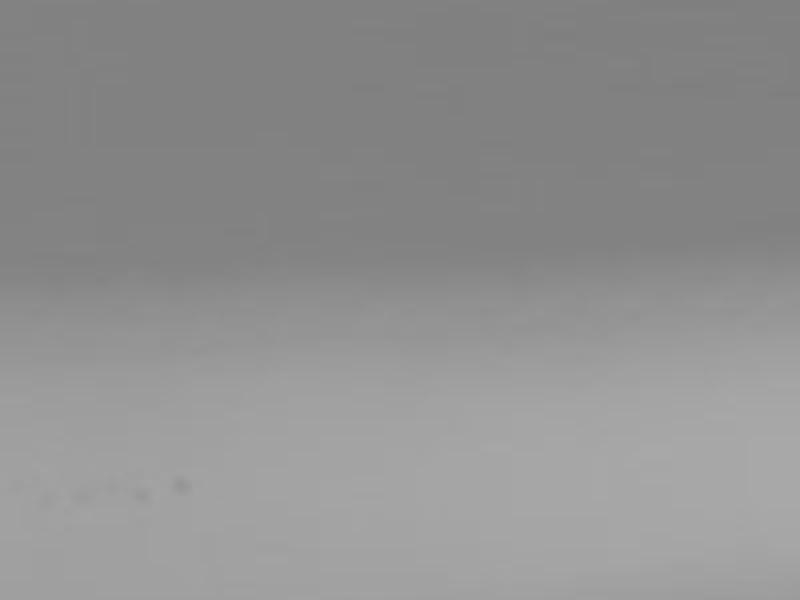defect: (74, 485, 96, 509), (35, 489, 60, 510), (132, 485, 150, 506), (171, 477, 191, 494)
